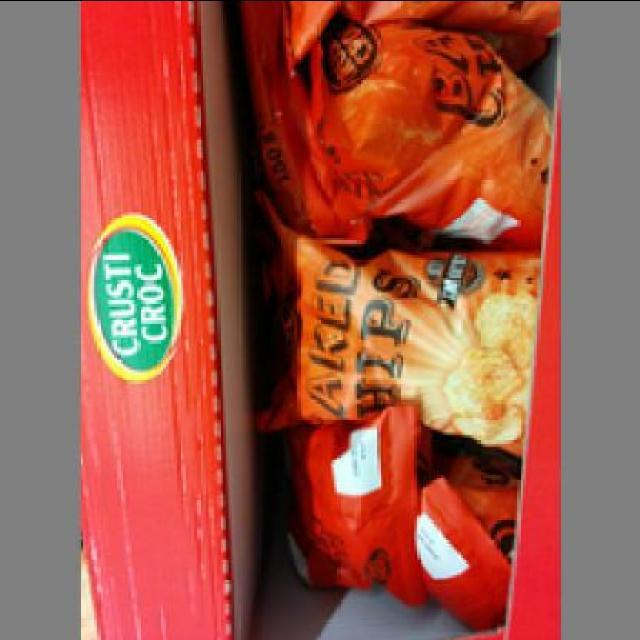Chips: (266, 240, 537, 451), (300, 23, 551, 246), (272, 397, 428, 609)
